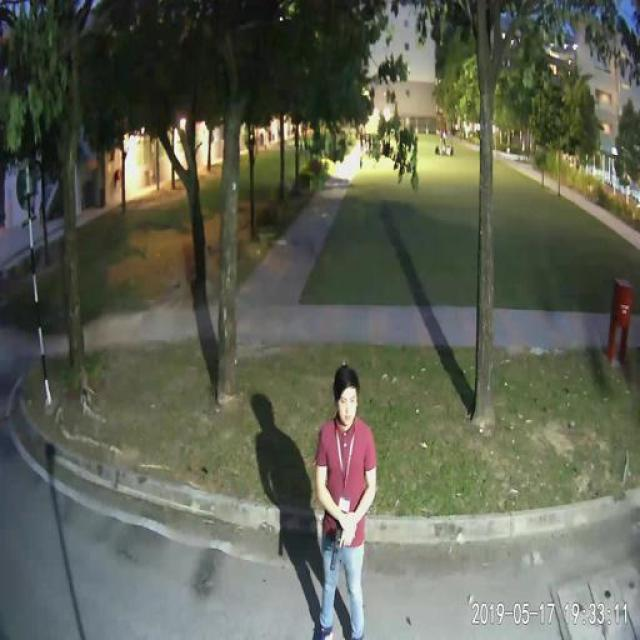Gun: (324, 522, 364, 578)
